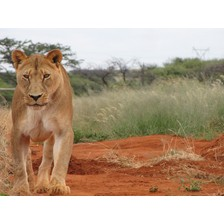lion: (5, 42, 77, 197)
